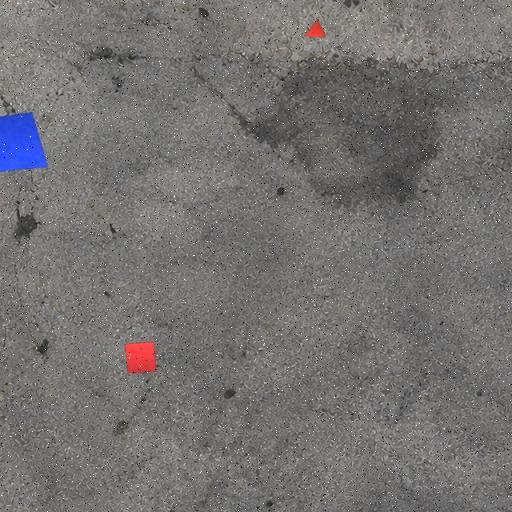BLUE_SQUARE: (0, 111, 49, 173)
RED_SQUARE: (124, 341, 158, 374)
